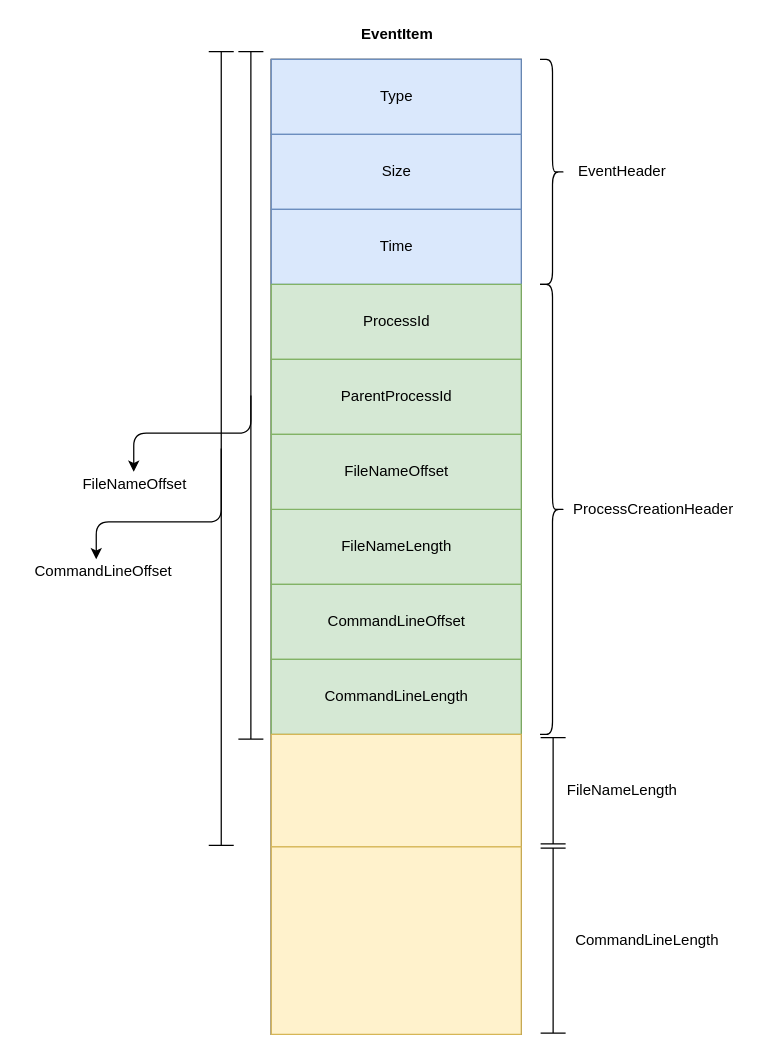
Some shapes in this 761 by 1056 pixel diagram are drawn without their labels. The centre of each missing label's shape, as x and y in pixels:
CommandLine: the point at 395,940
FileName: the point at 395,790
